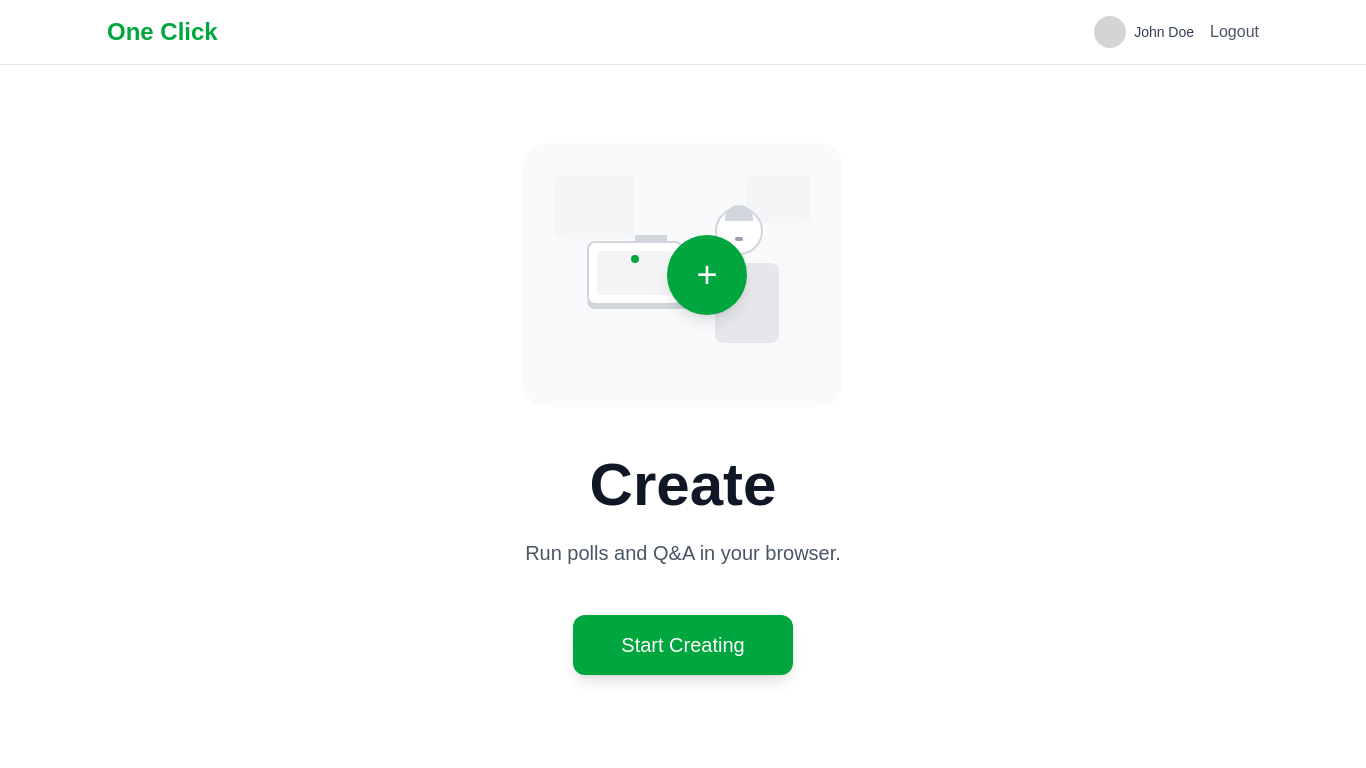
it: Create Page › validates required slide name field
# Open modal
Click the button "Start Creating" at [683, 645], box [573,615,793,675]
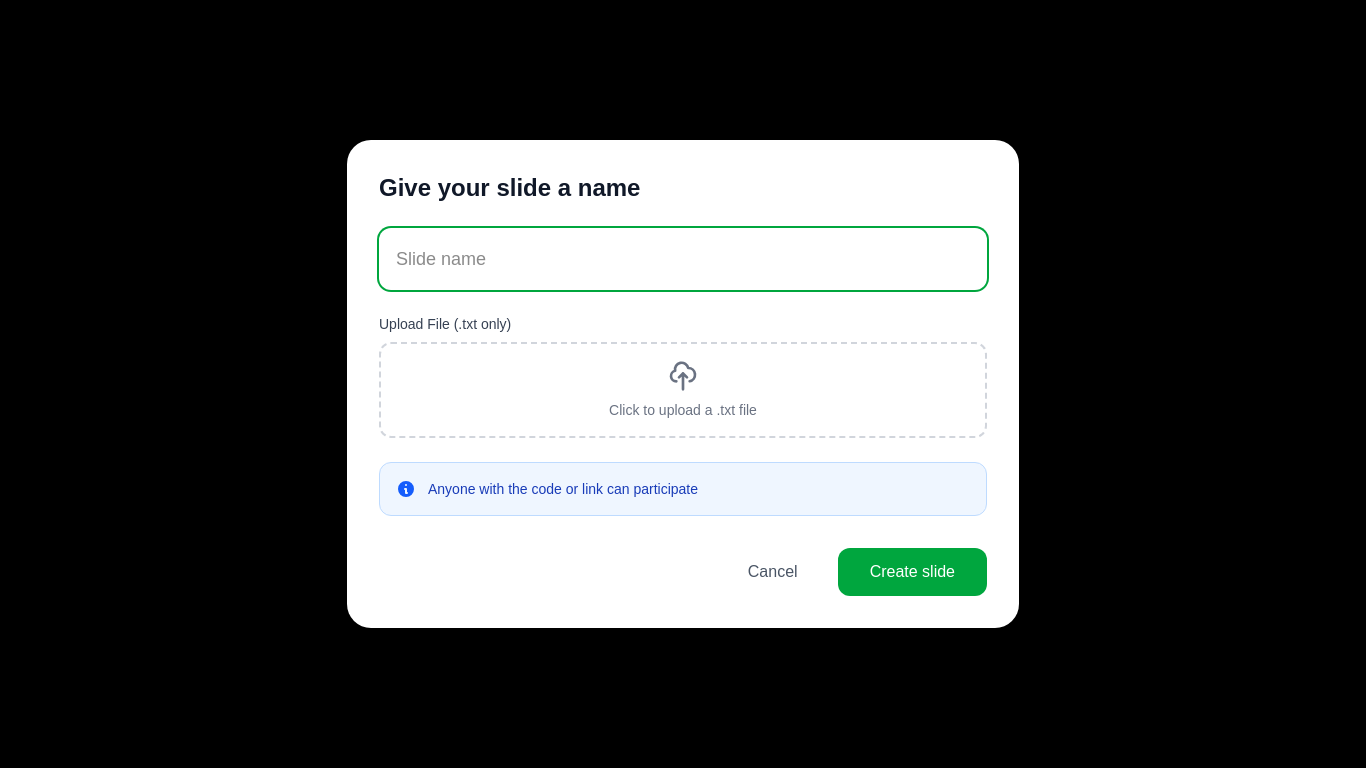
# Try to create without slide name
Click the button "Create slide" at [912, 572], box [838,548,987,596]
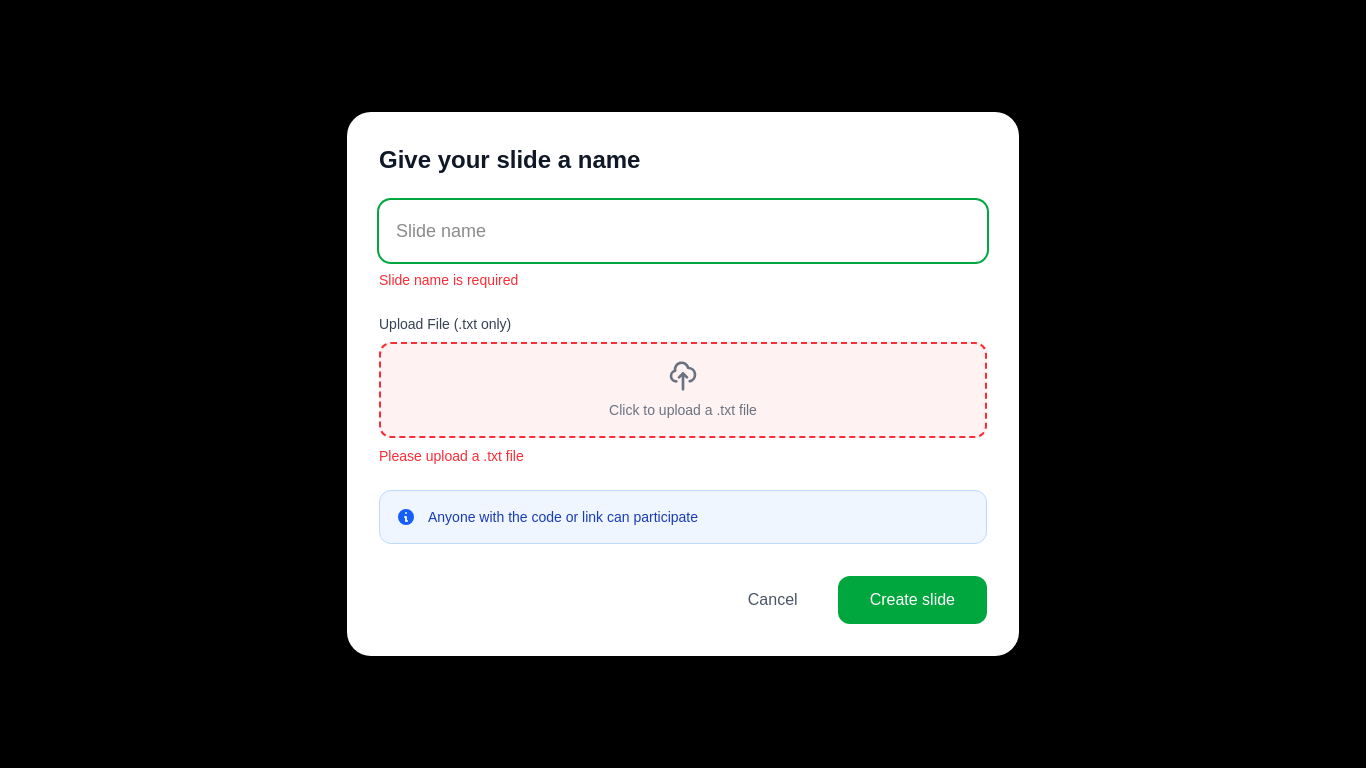
Expected: the text "Slide name is required" is shown, [379,272,518,288]
Expected: the text "Please upload a .txt file" is shown, [379,448,524,464]
